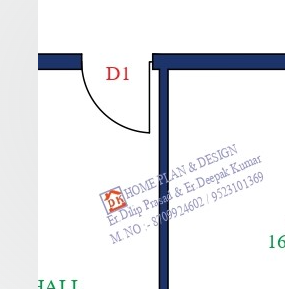door: (78, 44, 152, 143)
